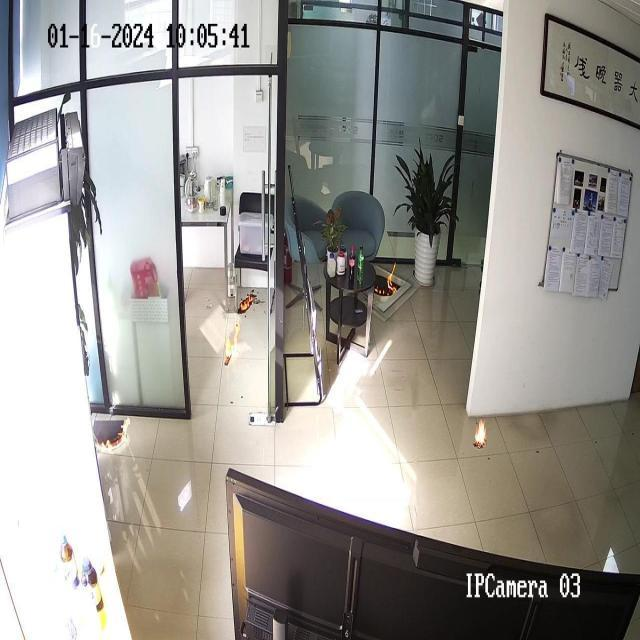smoke: (222, 321, 242, 366), (237, 288, 256, 318), (473, 416, 488, 452), (384, 264, 398, 300)
